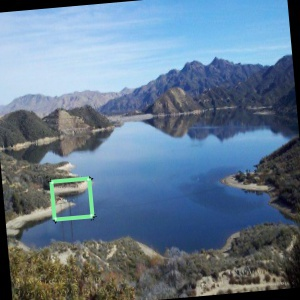square: (45, 172, 99, 223)
